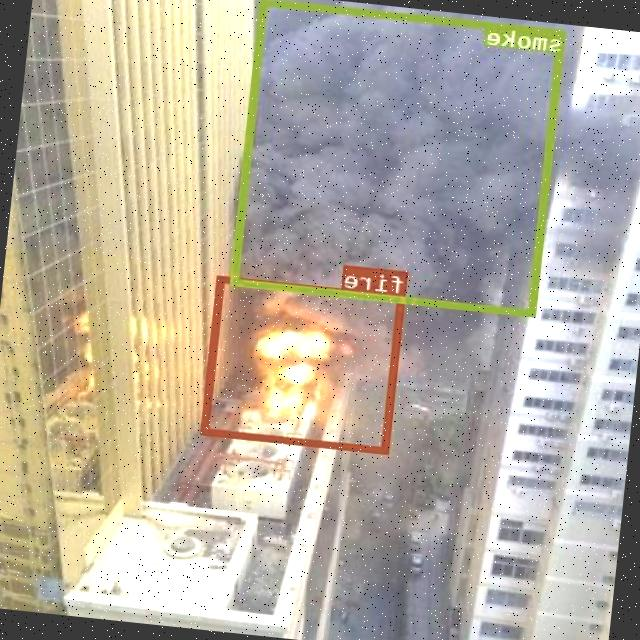fire: (202, 274, 407, 452)
smoke: (231, 0, 567, 316)
